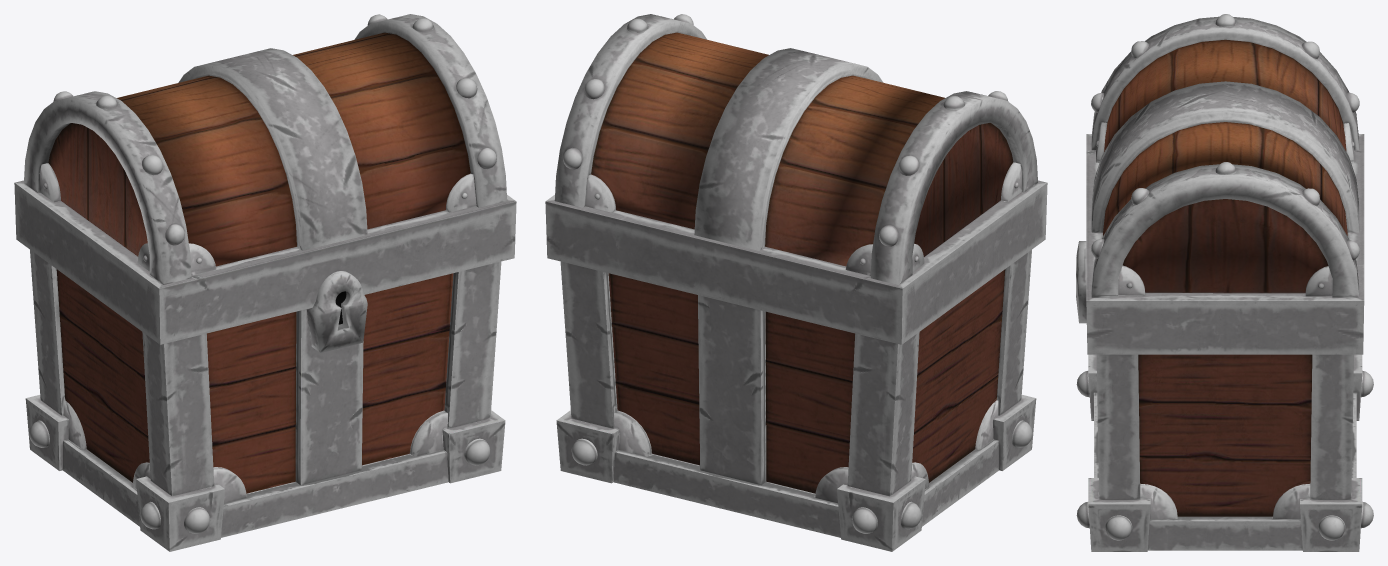
File: Chest.glb
3 views of the same model, side by side, from view 1: azimuth 30°, elevation 25°; view 2: azimuth 150°, elevation 25°; view 3: azimuth 270°, elevation 25° (orthographic). The views are drawn at different scales.
Parts seen in each view (by area): view 1: base_low.002, tampa_low.003; view 2: base_low.002, tampa_low.003; view 3: base_low.002, tampa_low.003.
Boxes of the visible parts, x1,y1,x2,y2 form: base_low.002: (14, 180, 516, 551); tampa_low.003: (24, 14, 507, 284); base_low.002: (545, 180, 1047, 551); tampa_low.003: (554, 14, 1037, 284); base_low.002: (1076, 134, 1373, 551); tampa_low.003: (1091, 14, 1359, 297).
Bounding box in the file's own units: 2.16 × 2.32 × 1.62.
Materials: 1 (1 with a texture image).
